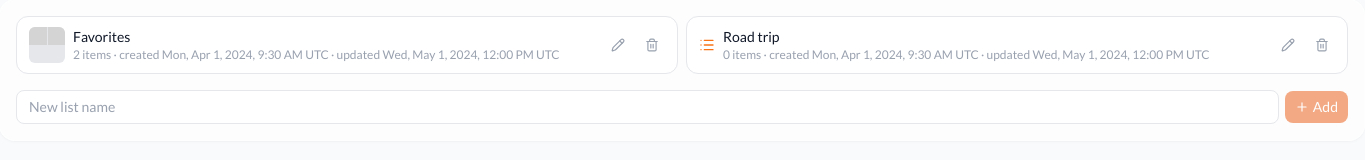
Test: MusicListsSection › disables it for a list with fewer than two items
Click the button titled "Open Road trip" at (995, 45), box [723, 27, 1267, 63]
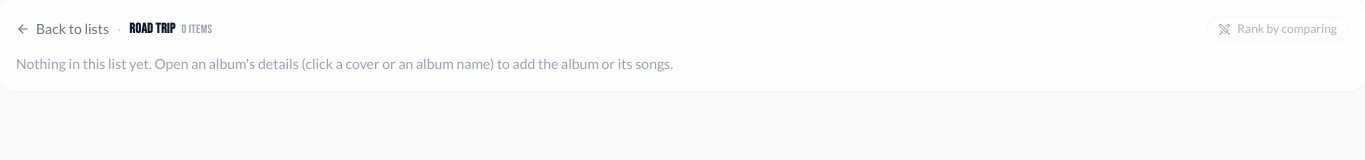
Now the button "Rank by comparing" is disabled, box [1207, 16, 1348, 42]
